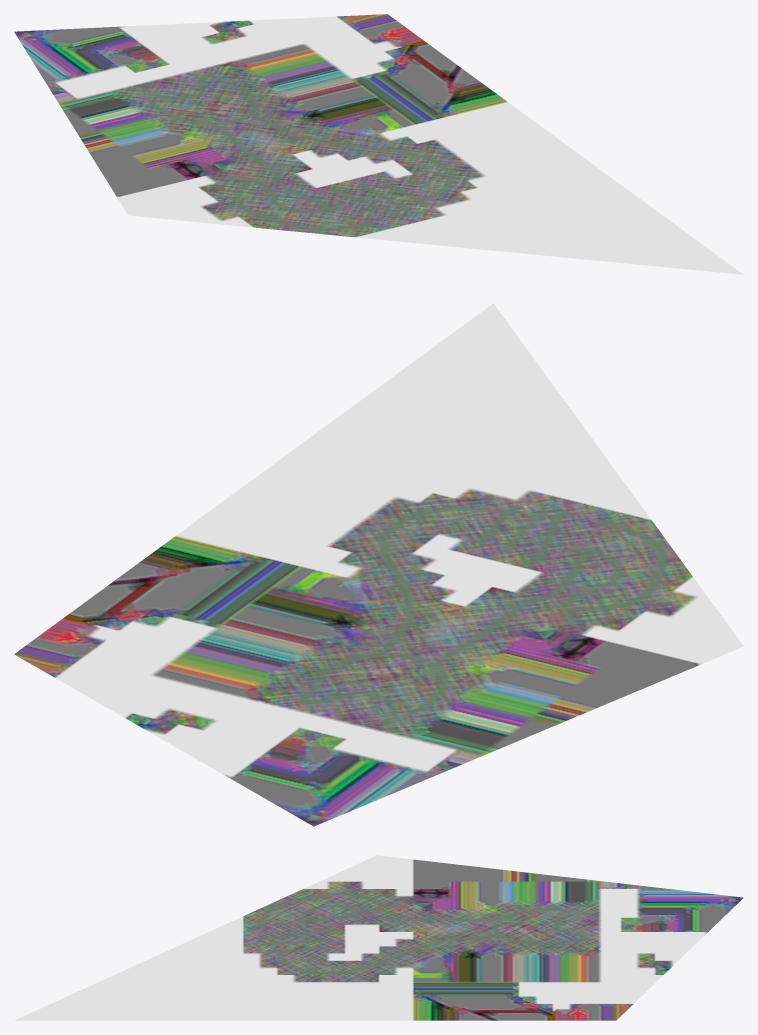
The model's file is DecaleE.FBX.
The picture shows the model from 3 angles, top to bottom: view 1: azimuth 30°, elevation 25°; view 2: azimuth 150°, elevation 25°; view 3: azimuth 270°, elevation 25°; orthographic projection. The views are drawn at different scales.
Parts seen in each view (by area): view 1: Object016; view 2: Object016; view 3: Object016.
Part boxes in pixels (x1,y1,x2,y2): Object016: [14, 14, 743, 274]; Object016: [14, 303, 743, 826]; Object016: [14, 855, 743, 1020].
Size of the model in its own units: 1.37 by 2.19e-07 by 2.56.
